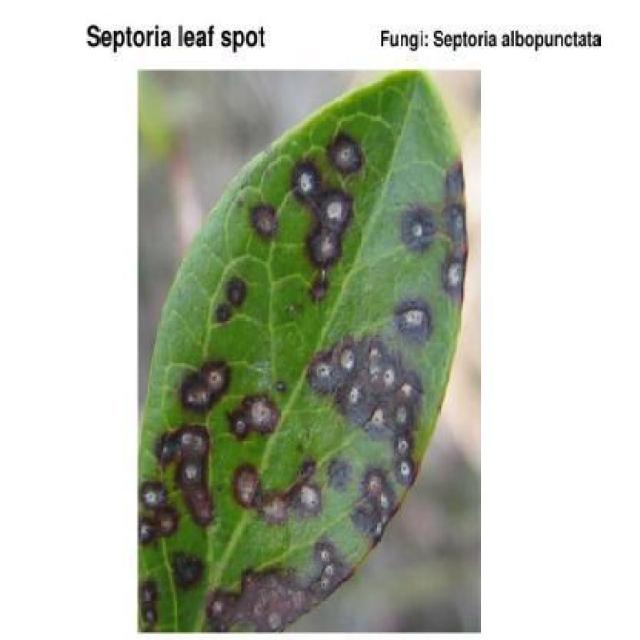Septoria leaf spot: (141, 77, 472, 623)
